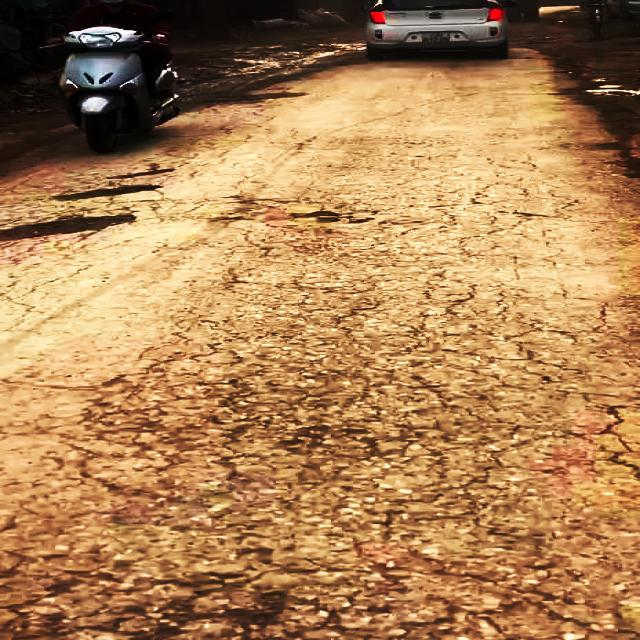pothole: (0, 208, 145, 248), (51, 172, 179, 206)
